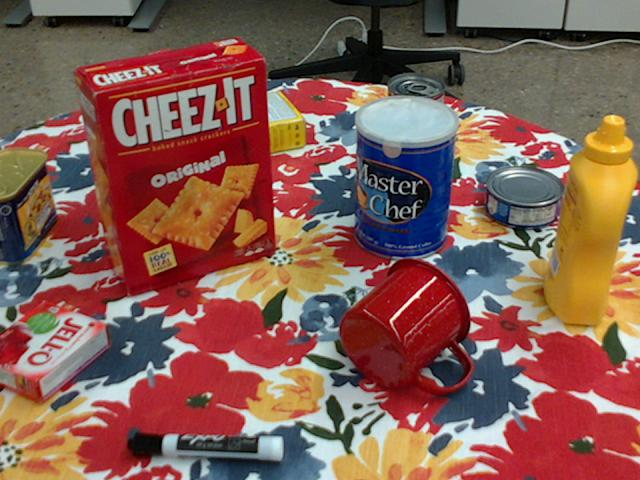cracker_box: (73, 38, 271, 293)
gelatin_box: (0, 301, 110, 402)
large_marker: (127, 431, 283, 460)
master_chef_can: (355, 96, 458, 262)
mug: (340, 258, 472, 393)
mustard_bottle: (541, 117, 634, 325)
potted_meat_can: (0, 146, 54, 263)
sugar_box: (147, 91, 303, 172)
tomato_soup_can: (384, 74, 443, 174)
tuna_fish_can: (484, 168, 564, 231)
